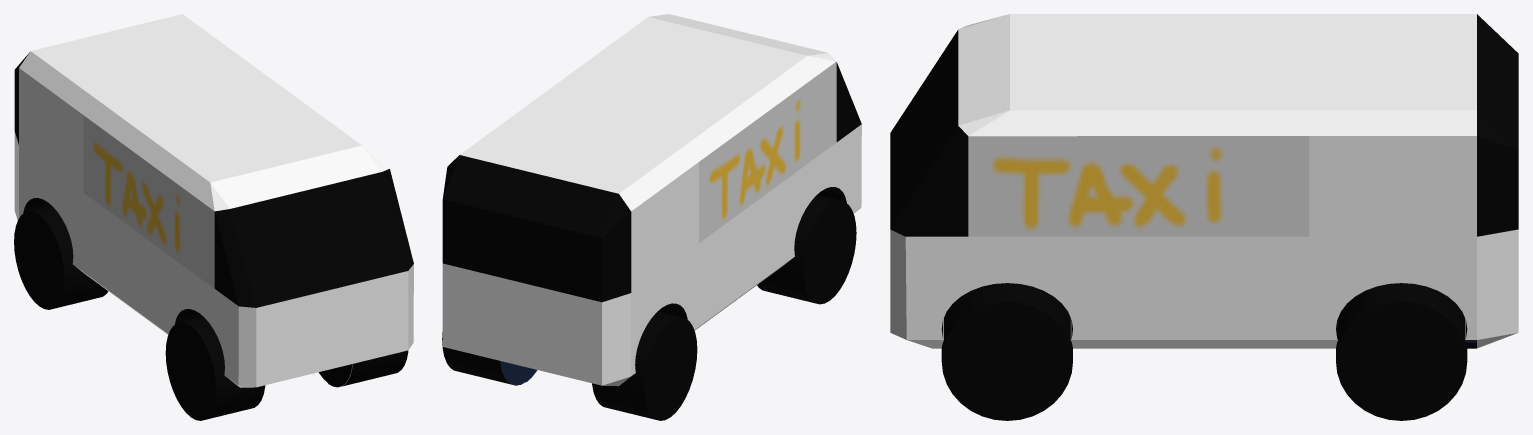
The model's file is Taxi2.fbx.
3 views of the same model, side by side, from view 1: azimuth 30°, elevation 25°; view 2: azimuth 150°, elevation 25°; view 3: azimuth 270°, elevation 25° (orthographic). The views are drawn at different scales.
Parts seen in each view (by area): view 1: Cube; view 2: Cube; view 3: Cube.
Boxes of the visible parts, x1,y1,x2,y2 form: Cube: (14,14,413,420); Cube: (442,14,861,420); Cube: (890,14,1518,420).
Bounding box in the file's own units: 220 × 250 × 478.
